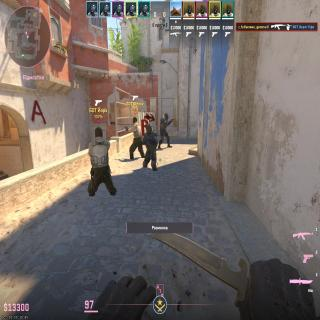CT-Body: (142, 124, 158, 171), (159, 112, 169, 146)
CT-Head: (146, 124, 152, 134), (164, 112, 169, 120)
T-Body: (88, 127, 110, 194), (130, 116, 143, 158)
T-Head: (95, 126, 103, 138), (132, 116, 138, 124)
